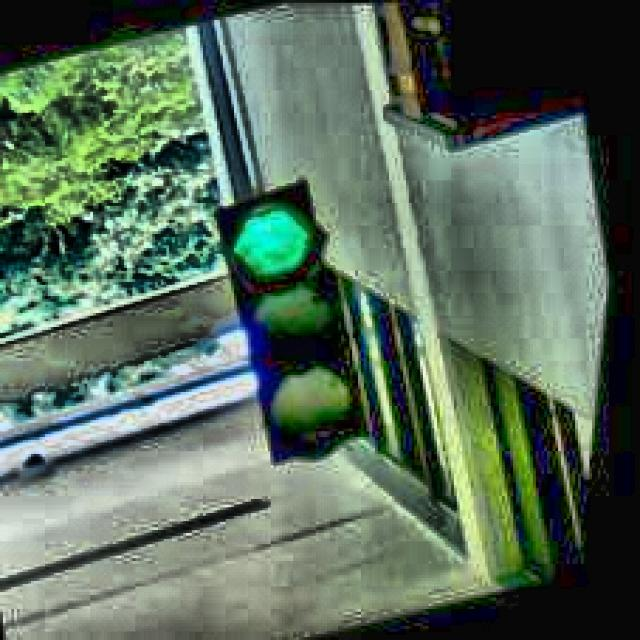green: (196, 181, 402, 474)
